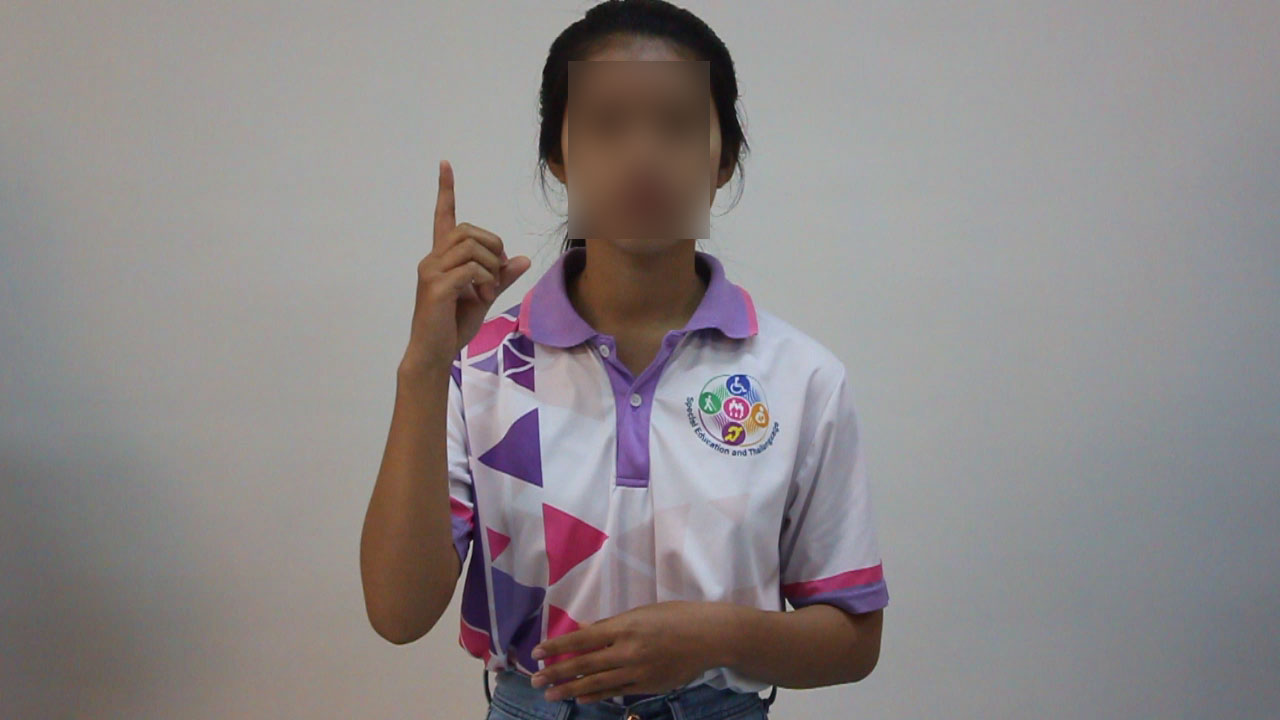dor: (402, 147, 540, 372)
